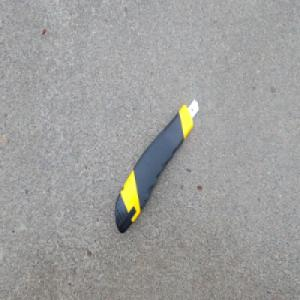Cutter: (114, 97, 200, 234)
